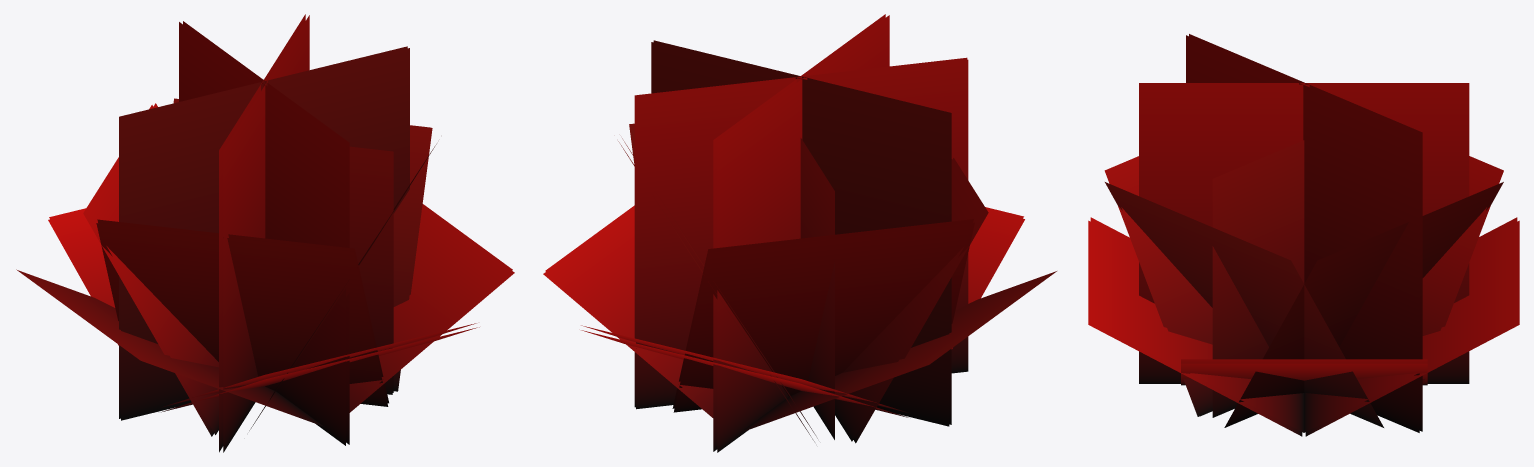
Rendered from TinyW17_AFS_high.FBX.
The picture shows the model from 3 angles, left to right: view 1: azimuth 30°, elevation 25°; view 2: azimuth 150°, elevation 25°; view 3: azimuth 270°, elevation 25°; orthographic projection. The views are drawn at different scales.
Visible parts, largest first — view 1: TinyW17_AFS_high; view 2: TinyW17_AFS_high; view 3: TinyW17_AFS_high.
Part boxes in pixels (x1=…): TinyW17_AFS_high: x1=16, y1=14, x2=514, y2=452; TinyW17_AFS_high: x1=543, y1=14, x2=1056, y2=452; TinyW17_AFS_high: x1=1088, y1=34, x2=1519, y2=436.
Bounding box in the file's own units: 0.3908 × 0.3014 × 0.3914.
